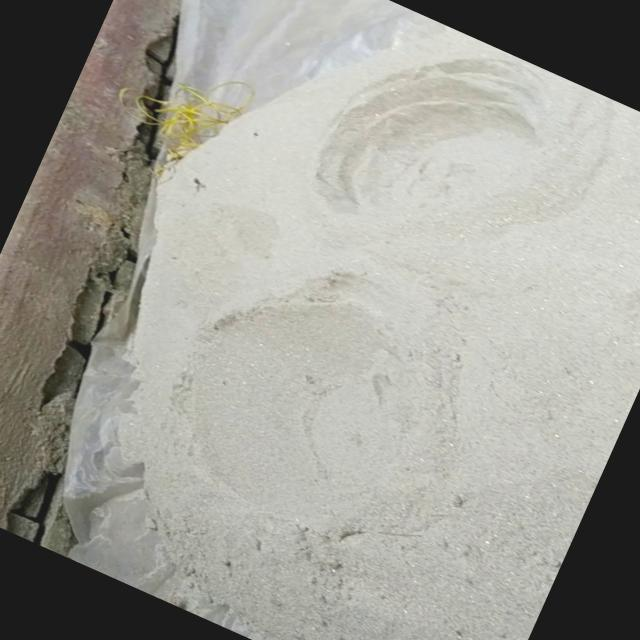C20: (177, 278, 453, 542), (316, 61, 542, 216), (42, 463, 173, 600)
